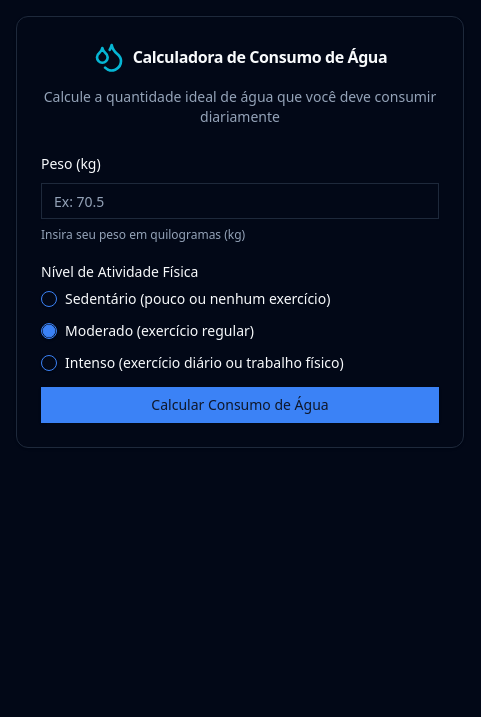
Test: Calculadora de Consumo de Água › deve ajustar o consumo de água com base no nível de atividade
# Preenche o campo de peso
Type "70" into the field labelled "Peso (kg)". click: (240, 201)
box: [41,183,439,219]
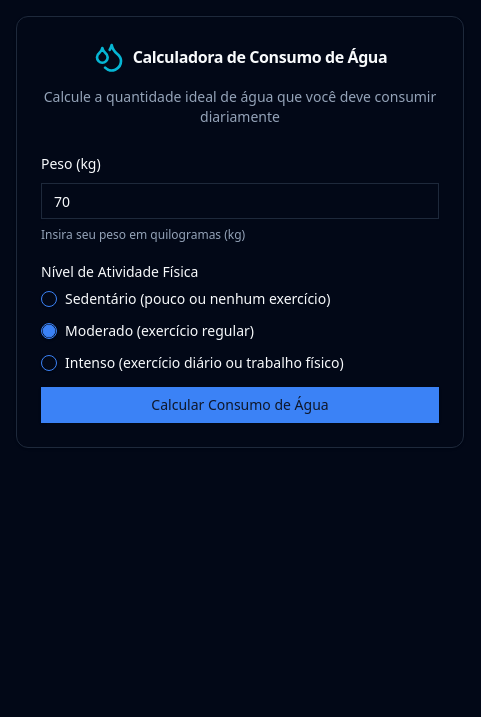
# Seleciona o nível de atividade sedentário
Click the radio button named "Sedentário (pouco ou nenhum exercício)" next to "Sedentário (pouco ou nenhum exercício)". click: (49, 299)
box: [41,291,57,307]
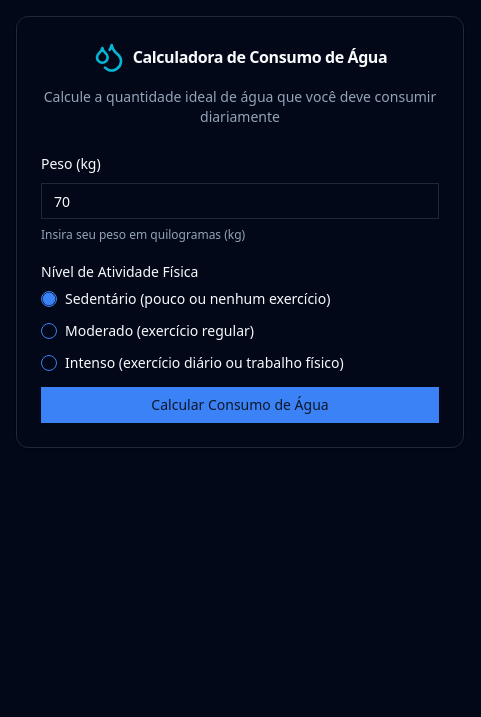
# Clica no botão de calcular
Click the button "Calcular Consumo de Água". click: (240, 405)
box: [41,387,439,423]
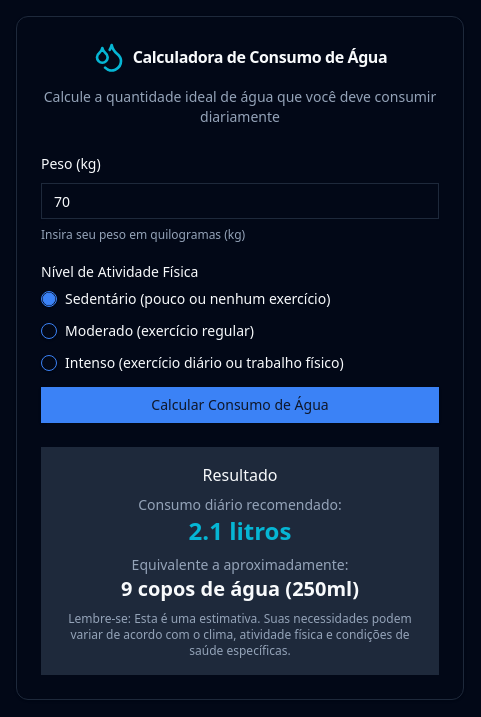
Now the text "2.1 litros" is shown, box [189,514,291,547]
# Seleciona o nível de atividade intenso
Click the 3rd radio button named "Intenso (exercício diário ou trabalho físico)". click: (49, 363)
box: [41,355,57,371]
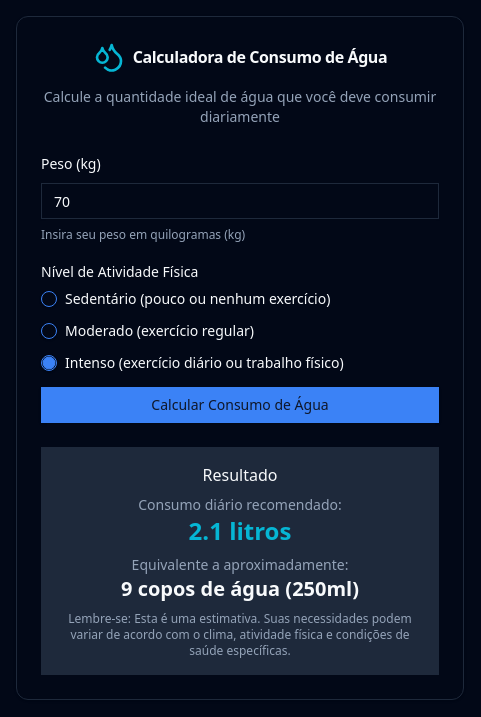
# Clica no botão de calcular
Click the button "Calcular Consumo de Água". click: (240, 405)
box: [41,387,439,423]
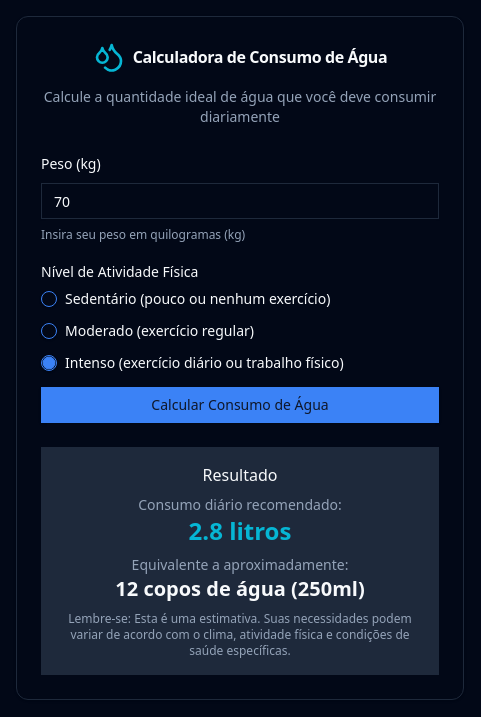
Now the text "2.8 litros" is shown, box [189,514,291,547]
